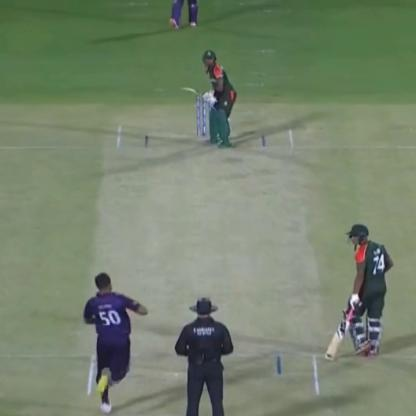bat: (319, 288, 356, 360), (180, 80, 214, 101)
pitch: (64, 114, 332, 408)
